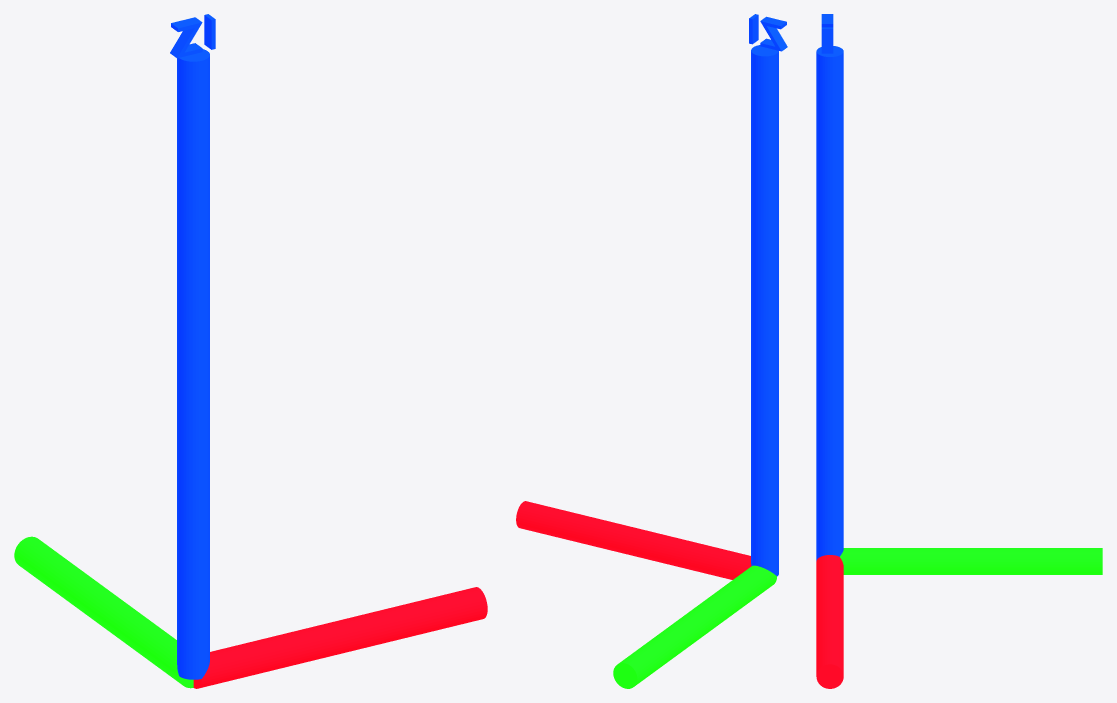
File: axis_frame_1.dae
3 views of the same model, side by side, from view 1: azimuth 30°, elevation 25°; view 2: azimuth 150°, elevation 25°; view 3: azimuth 270°, elevation 25° (orthographic). The views are drawn at different scales.
Parts seen in each view (by area): view 1: Text; view 2: Text; view 3: Text.
Part boxes in pixels (x1=…): Text: x1=14, y1=14, x2=487, y2=688; Text: x1=516, y1=14, x2=787, y2=688; Text: x1=816, y1=14, x2=1102, y2=688.
Size of the model in its own units: 0.8072 by 0.7875 by 1.68.
